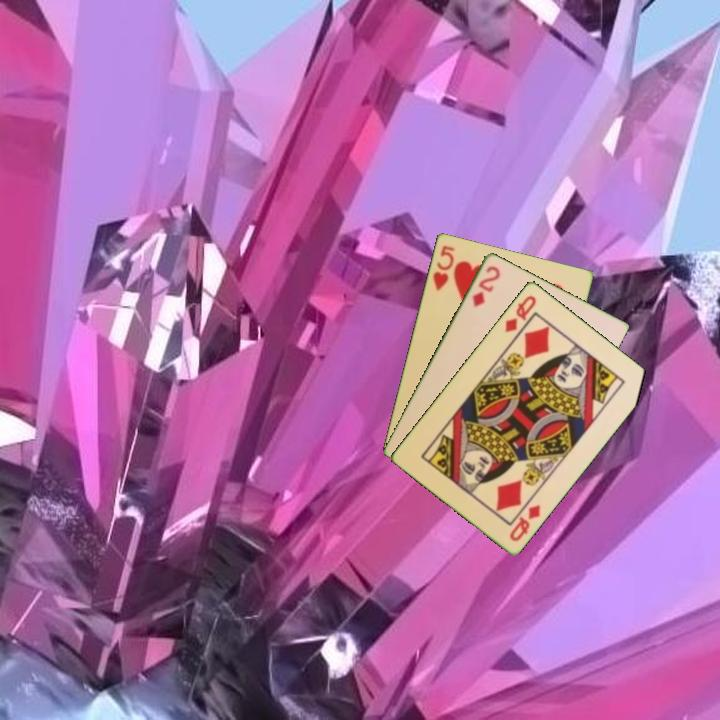2d: (468, 262, 503, 309)
5h: (429, 242, 457, 294)
Qd: (501, 291, 539, 335), (506, 501, 544, 544)
